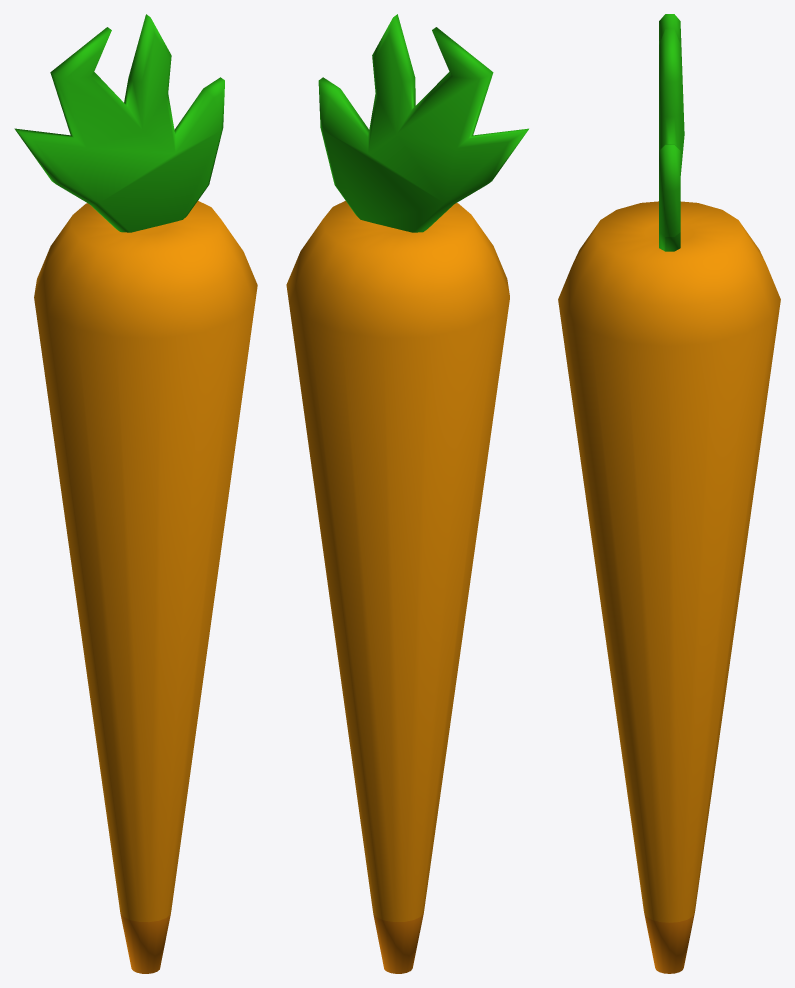
File: carrot.glb
3 renders of one model, left to right at view 1: azimuth 30°, elevation 25°; view 2: azimuth 150°, elevation 25°; view 3: azimuth 270°, elevation 25°, orthographic.
Visible parts, largest first — view 1: Cylinder.003; view 2: Cylinder.003; view 3: Cylinder.003.
Part boxes in pixels (left/top/right/bottom): Cylinder.003: left=14, top=14, right=257, bottom=973; Cylinder.003: left=286, top=14, right=528, bottom=973; Cylinder.003: left=558, top=14, right=780, bottom=973.
Size of the model in its own units: 0.0723 by 0.2897 by 0.0623.
1 material, 1 textured.
